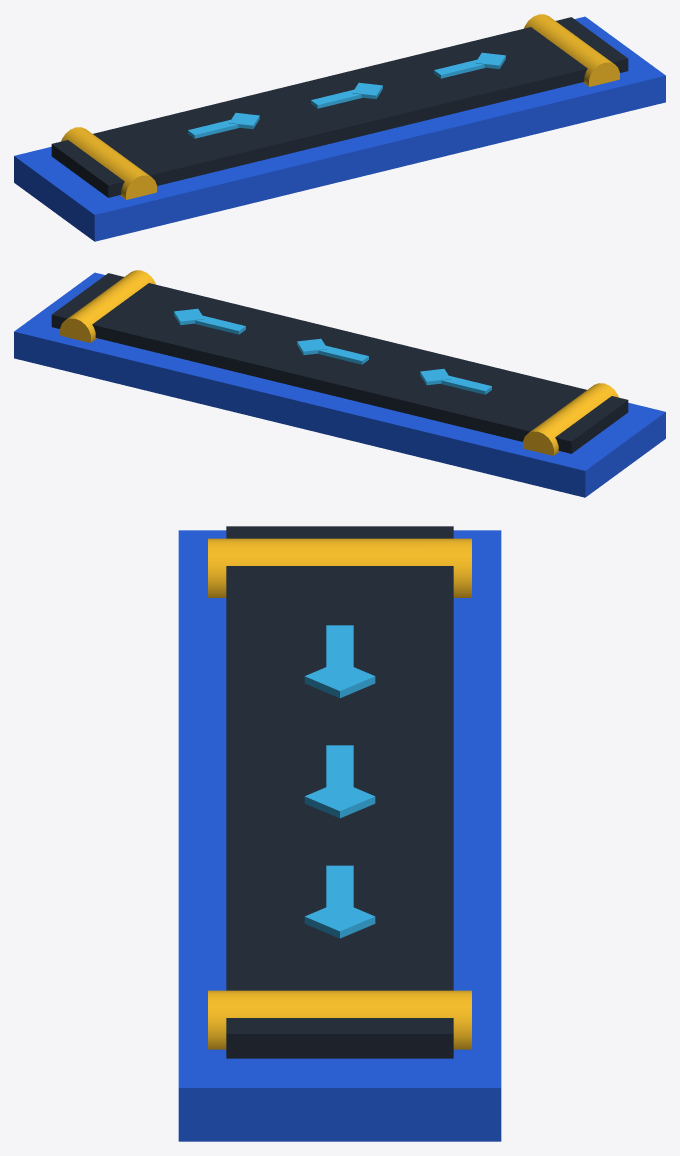
Rendered from toy_conveyor_track_belt.glb.
3 views of the same model, one above another, from view 1: azimuth 30°, elevation 25°; view 2: azimuth 150°, elevation 25°; view 3: azimuth 270°, elevation 25° (orthographic). The views are drawn at different scales.
Parts seen in each view (by area): view 1: solid_2, solid_1, solid_4, solid_3, solid_5, solid_7, solid_9, solid_10, solid_8, solid_6; view 2: solid_2, solid_1, solid_4, solid_3, solid_5, solid_7, solid_9, solid_10, solid_8, solid_6; view 3: solid_2, solid_1, solid_3, solid_4, solid_8, solid_10, solid_6, solid_9, solid_7, solid_5.
Boxes of the visible parts, x1,y1,x2,y2 form: solid_2: [51, 17, 628, 197]; solid_1: [14, 16, 665, 241]; solid_4: [524, 14, 619, 86]; solid_3: [61, 127, 156, 199]; solid_5: [188, 119, 239, 138]; solid_7: [311, 89, 362, 108]; solid_9: [434, 59, 485, 78]; solid_10: [475, 52, 505, 69]; solid_8: [352, 82, 382, 98]; solid_6: [229, 113, 259, 129]; solid_2: [51, 273, 628, 453]; solid_1: [14, 272, 665, 497]; solid_4: [60, 270, 155, 342]; solid_3: [523, 383, 618, 455]; solid_5: [440, 375, 491, 394]; solid_7: [317, 345, 368, 364]; solid_9: [194, 315, 245, 334]; solid_10: [174, 308, 204, 325]; solid_8: [297, 338, 327, 354]; solid_6: [420, 369, 450, 385]; solid_2: [226, 526, 453, 1058]; solid_1: [178, 530, 501, 1141]; solid_3: [208, 538, 471, 597]; solid_4: [208, 990, 471, 1049]; solid_8: [304, 781, 375, 818]; solid_10: [304, 901, 375, 938]; solid_6: [304, 661, 375, 697]; solid_9: [326, 865, 353, 906]; solid_7: [326, 745, 353, 786]; solid_5: [326, 625, 353, 666].
Bounding box in the file's own units: 5.8 × 0.46 × 1.42.
